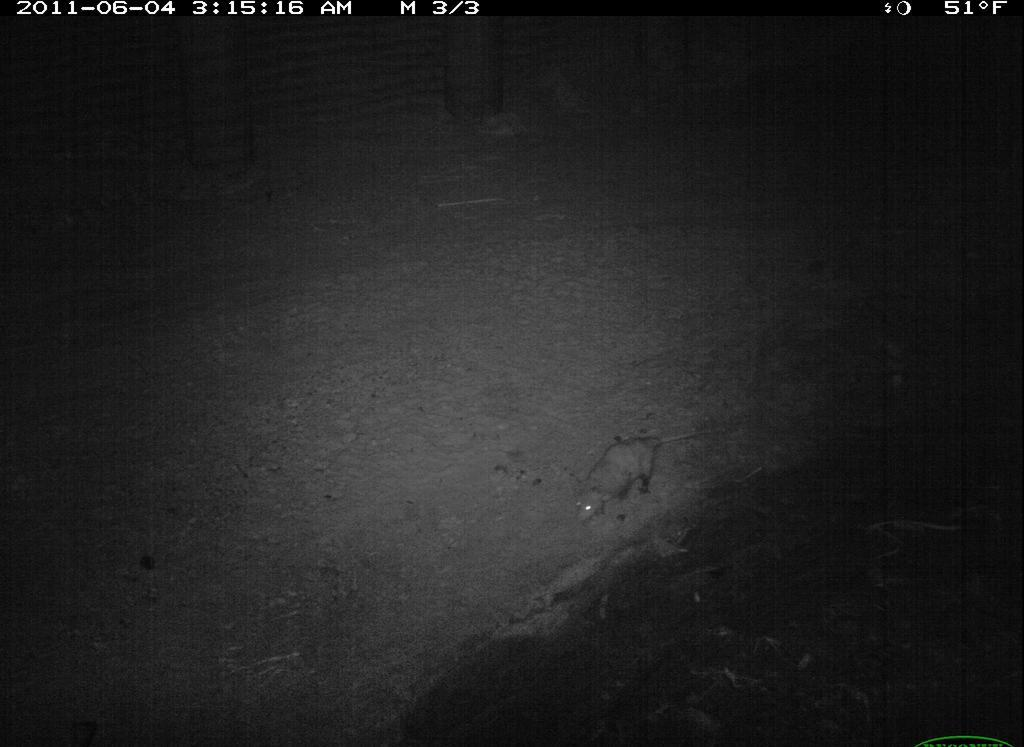opossum: (559, 419, 739, 529)
